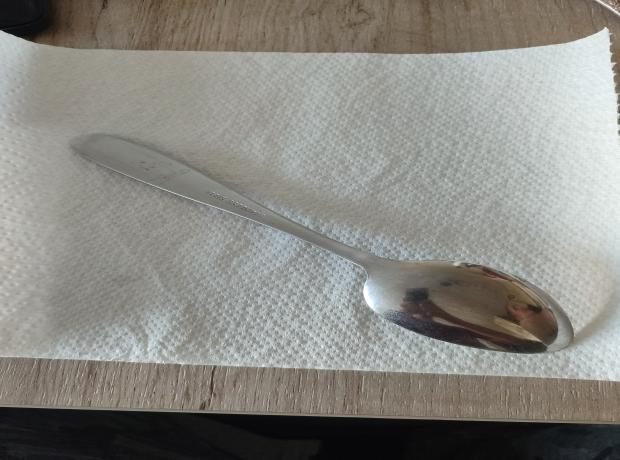metal: (65, 133, 578, 355)
